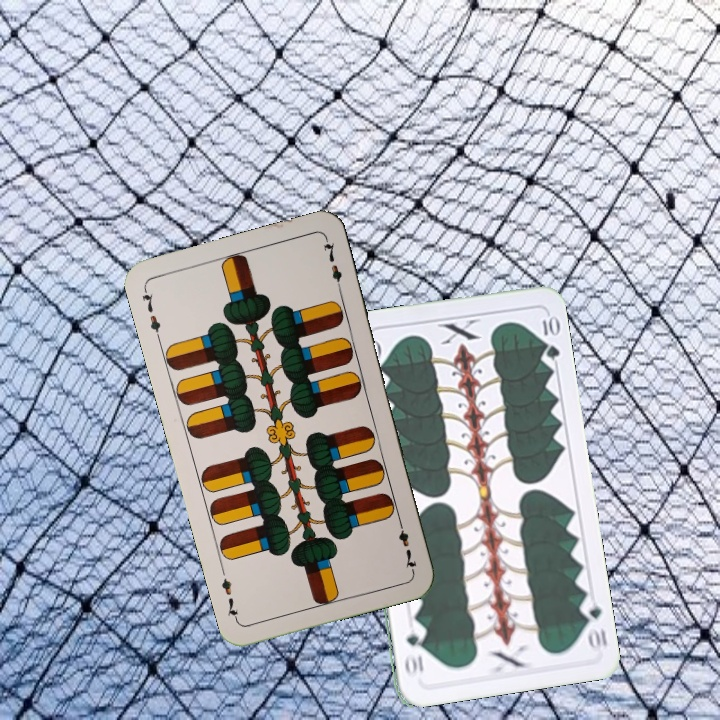E7: (137, 284, 163, 342), (394, 515, 419, 573)
G10: (576, 594, 610, 653)
